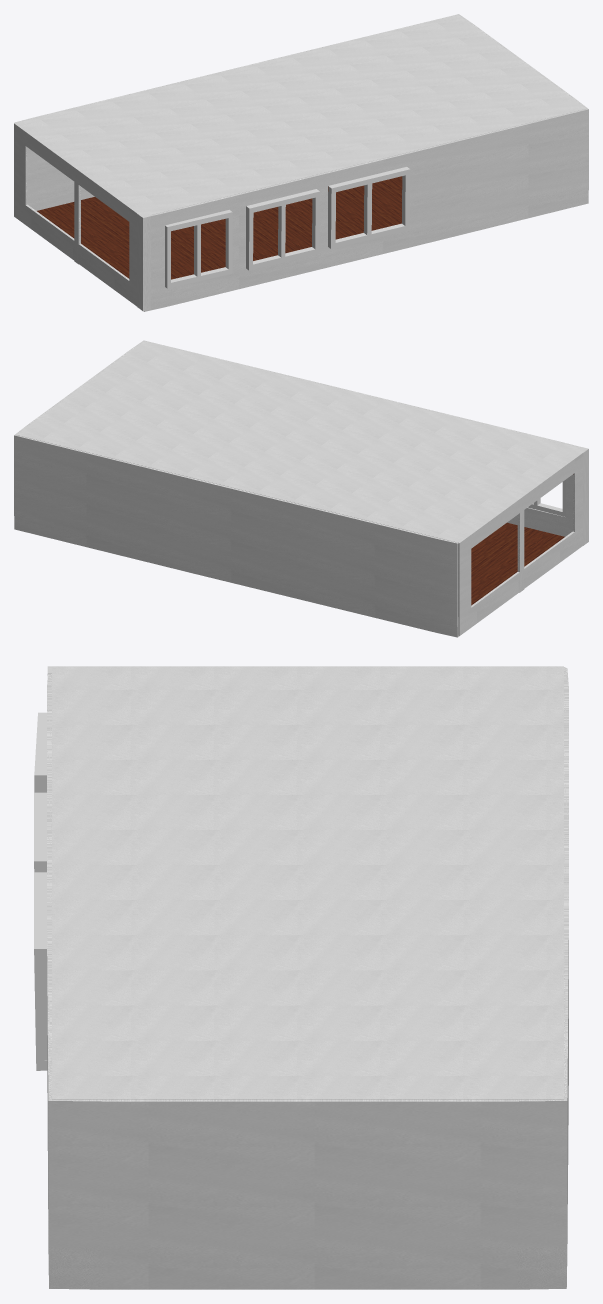
The model's file is betterwalls.glb.
3 renders of one model, top to bottom at view 1: azimuth 30°, elevation 25°; view 2: azimuth 150°, elevation 25°; view 3: azimuth 270°, elevation 25°, orthographic. The views are drawn at different scales.
Parts seen in each view (by area): view 1: Room, Plane.004, Plane.002, Plane; view 2: Room, Plane; view 3: Room, Plane.004, Plane.002, Plane.
Part boxes in pixels (x1,y1,x2,y2): Room: (14, 14, 588, 311); Plane.004: (328, 167, 410, 248); Plane.002: (246, 189, 319, 270); Plane: (165, 209, 232, 288); Room: (14, 340, 588, 637); Plane: (528, 480, 565, 516); Room: (47, 666, 568, 1289); Plane.004: (34, 872, 47, 1070); Plane.002: (34, 792, 46, 872); Plane: (34, 712, 46, 792).
Size of the model in its own units: 20.11 by 4.11 by 10.45.
Materials: 3 (2 with a texture image).
